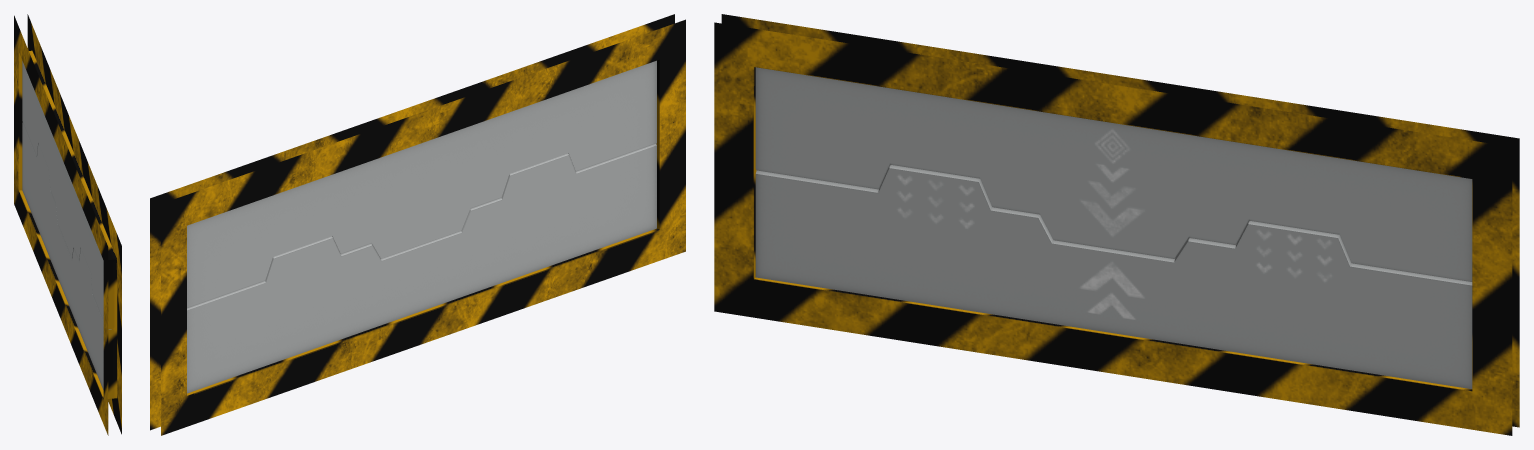
File: Prop_Airlock.fbx
3 views of the same model, side by side, from view 1: azimuth 30°, elevation 25°; view 2: azimuth 150°, elevation 25°; view 3: azimuth 270°, elevation 25° (orthographic). The views are drawn at different scales.
Parts seen in each view (by area): view 1: Airlock_Door, Door_Down, Door_up; view 2: Airlock_Door, Door_Down, Door_up; view 3: Airlock_Door, Door_Down, Door_up.
Part boxes in pixels (bbox=[...]): Airlock_Door: bbox=[14, 14, 121, 435]; Door_Down: bbox=[22, 122, 111, 389]; Door_up: bbox=[22, 61, 103, 320]; Airlock_Door: bbox=[150, 14, 685, 435]; Door_Down: bbox=[187, 144, 656, 393]; Door_up: bbox=[187, 60, 656, 308]; Airlock_Door: bbox=[714, 14, 1519, 435]; Door_Down: bbox=[755, 165, 1472, 388]; Door_up: bbox=[755, 67, 1472, 281].
Bounding box in the file's own units: 296 × 300 × 757.
1 material, 1 textured.
